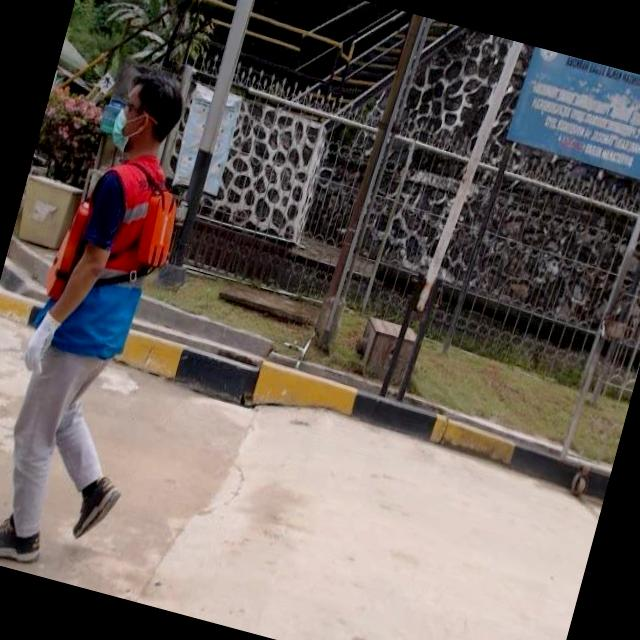vest: (27, 136, 188, 367)
